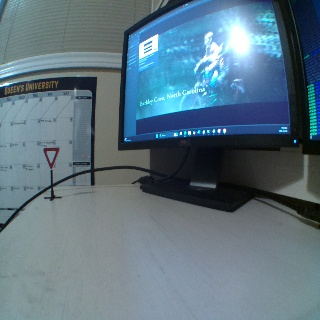sign_yield: (43, 146, 59, 167)
